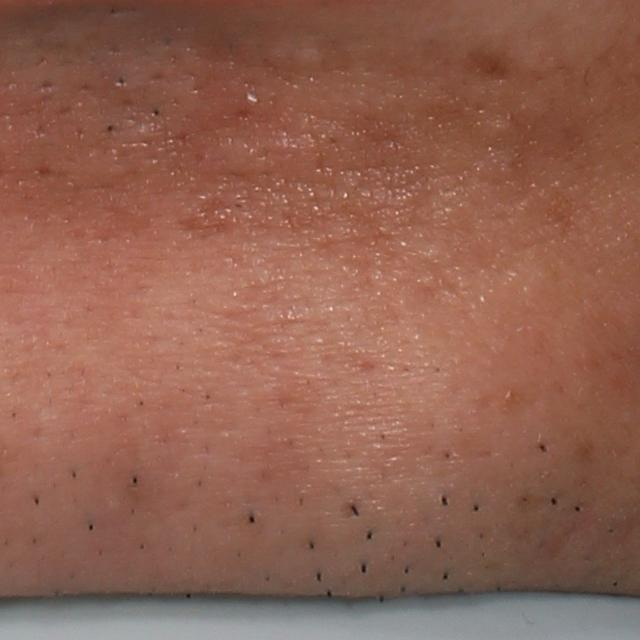hypertrophic_scar: (207, 130, 278, 180), (259, 34, 326, 69)
